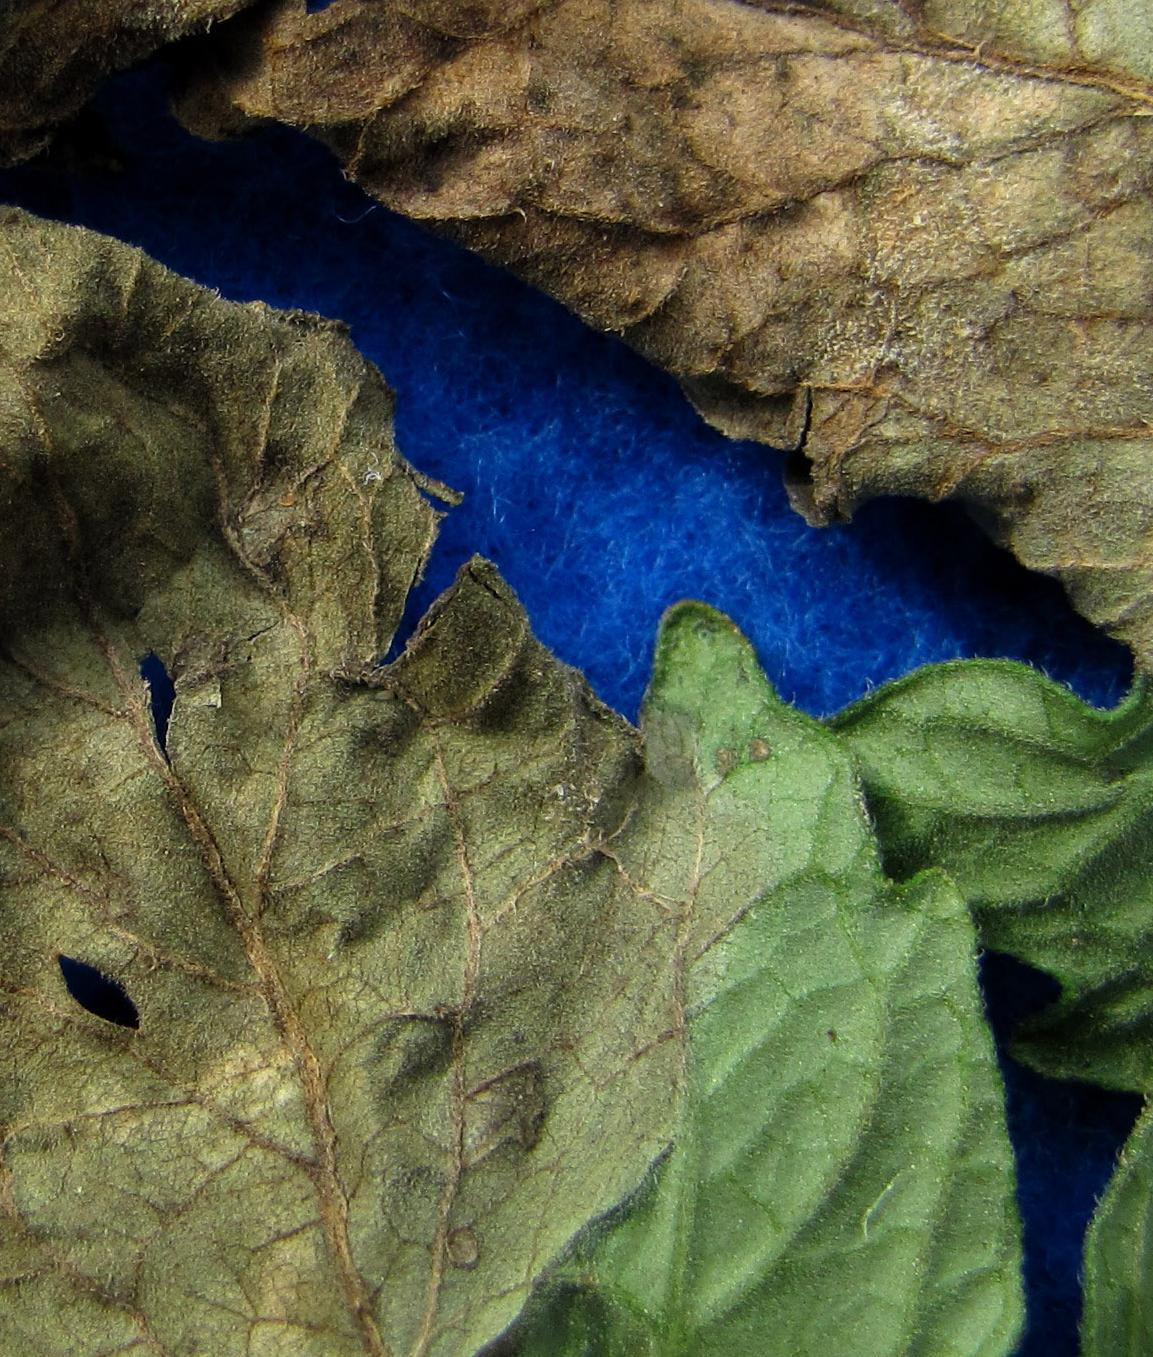Tomato leaf late blight: (0, 174, 1153, 1357), (26, 0, 1153, 1133)
